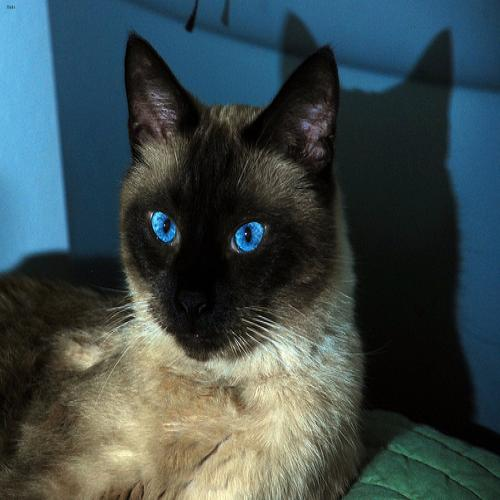siamese: (107, 5, 361, 374)
